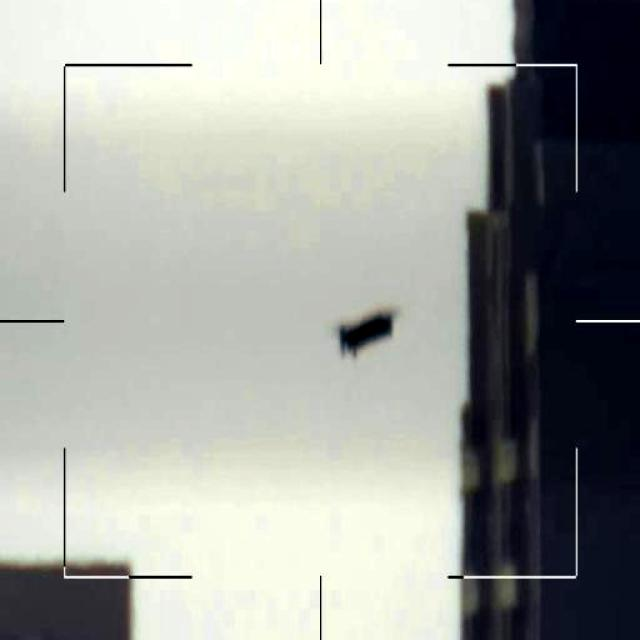bird: (332, 309, 391, 358)
